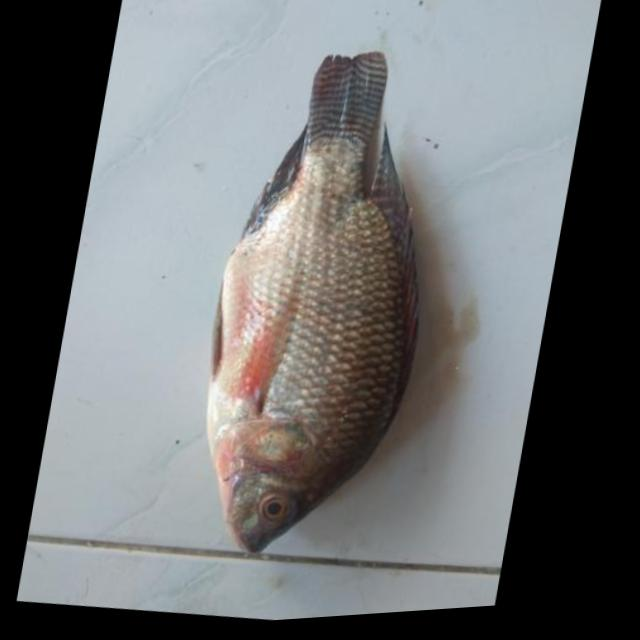Tilapia: (171, 32, 467, 577)
